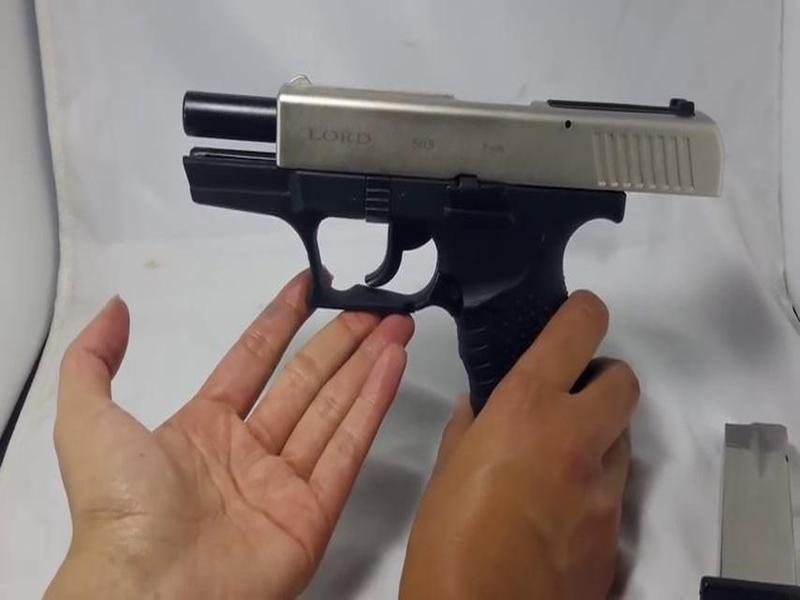Pistola: (173, 68, 724, 431)
